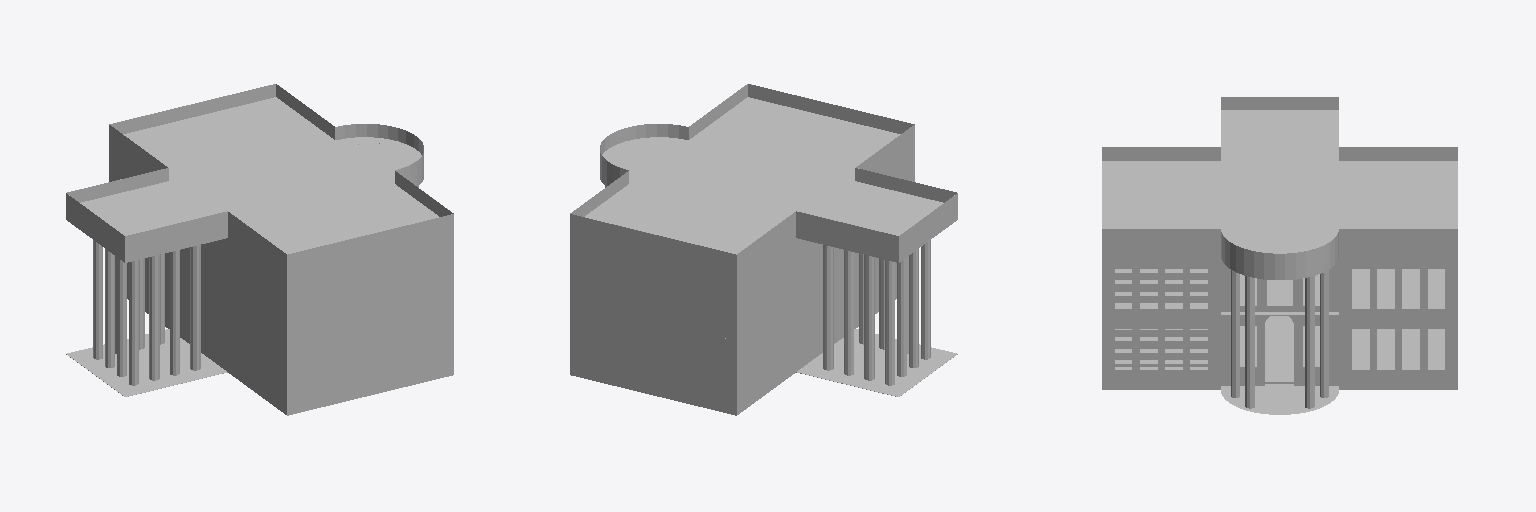
The model's file is White House.obj.
3 renders of one model, left to right at view 1: azimuth 30°, elevation 25°; view 2: azimuth 150°, elevation 25°; view 3: azimuth 270°, elevation 25°, orthographic.
Visible parts, largest first — view 1: Solid1; view 2: Solid1; view 3: Solid1, Solid1:1.
Boxes of the visible parts, <box> form: Solid1: <box>66,84,453,415</box>; Solid1: <box>570,84,957,415</box>; Solid1: <box>1102,97,1457,414</box>; Solid1:1: <box>1115,269,1207,366</box>.
Bounding box in the file's own units: 12.5 × 6 × 12.